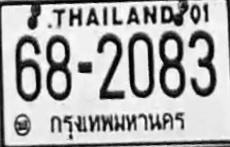0: (127, 31, 154, 97)
2: (96, 32, 124, 99)
3: (188, 29, 216, 96)
6: (14, 34, 41, 101)
8: (158, 30, 184, 96), (45, 34, 71, 100)
BKK: (48, 107, 189, 141)
